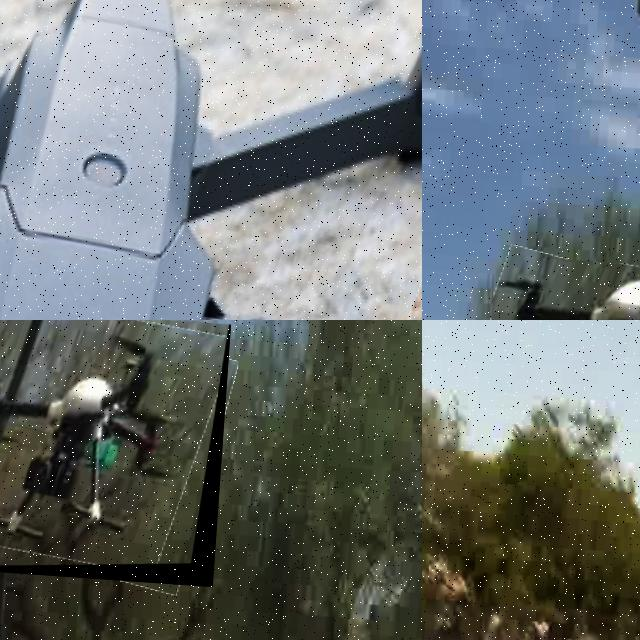0: (0, 320, 230, 586), (488, 254, 640, 320)
drone: (0, 0, 422, 320)
